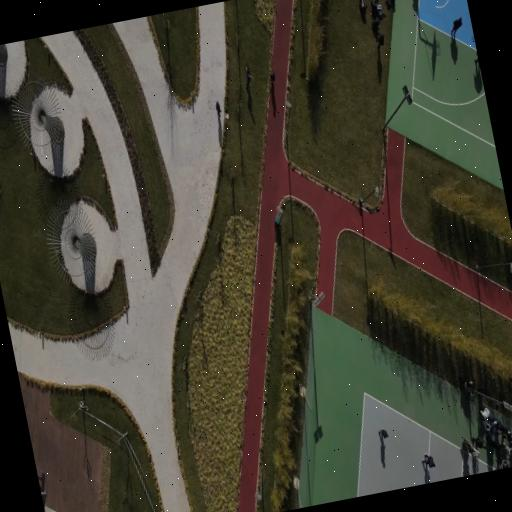person: (370, 0, 385, 19), (463, 439, 478, 457), (451, 17, 462, 38), (499, 424, 511, 442), (464, 380, 474, 400), (371, 18, 380, 39), (472, 437, 486, 449), (424, 454, 435, 468), (480, 406, 490, 420), (377, 34, 385, 48), (246, 67, 253, 83), (359, 0, 366, 15), (500, 459, 509, 468), (380, 429, 388, 439), (505, 445, 511, 457), (270, 71, 275, 84), (216, 102, 221, 114), (509, 434, 512, 450), (510, 450, 512, 466), (41, 491, 46, 496), (475, 57, 478, 64)
